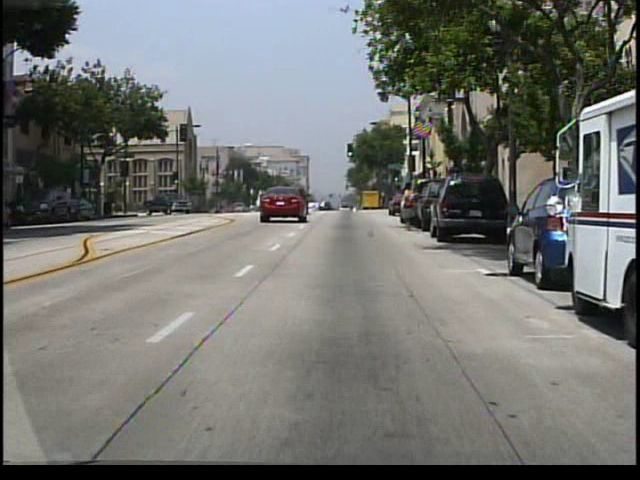person: (396, 180, 421, 232)
